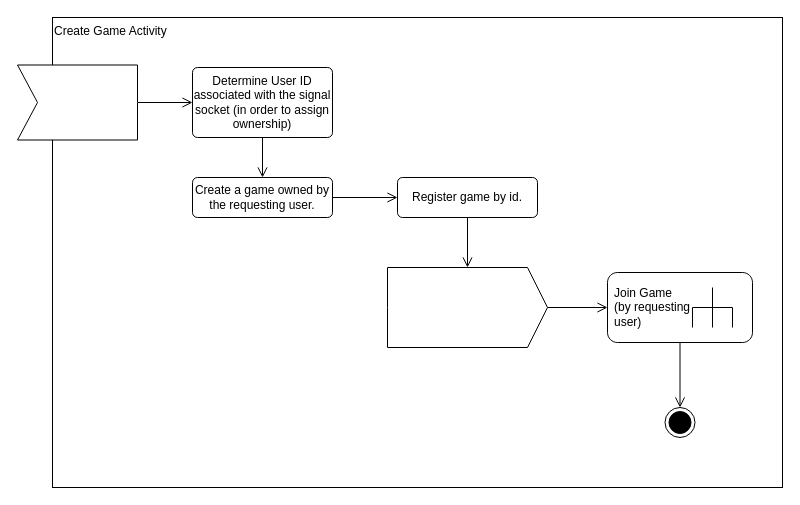
The diagram is 800 pixels wide and 505 high, and some of its shapes have lost their labels. The box of each missing label's shape, as (x1, y1, x2, y2) in pixels:
Send user an acknowledgement of game creation.: (386, 266, 548, 348)
WebSocket Create-Game Signal: (16, 64, 138, 140)
